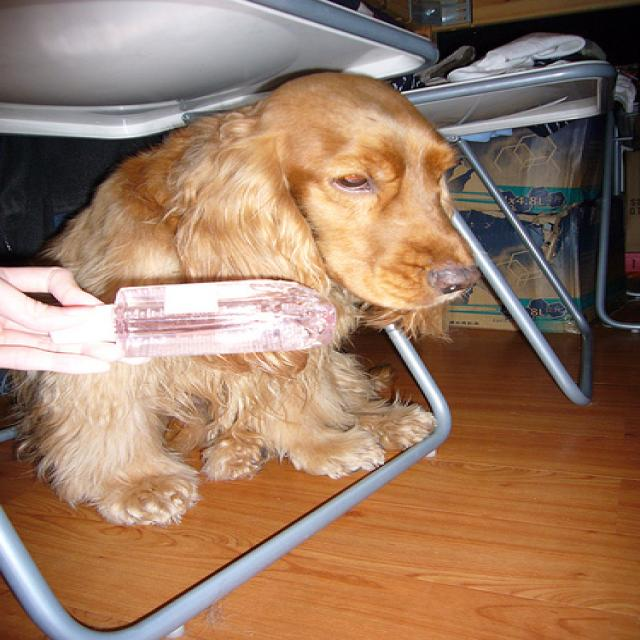dog: (167, 72, 478, 371)
